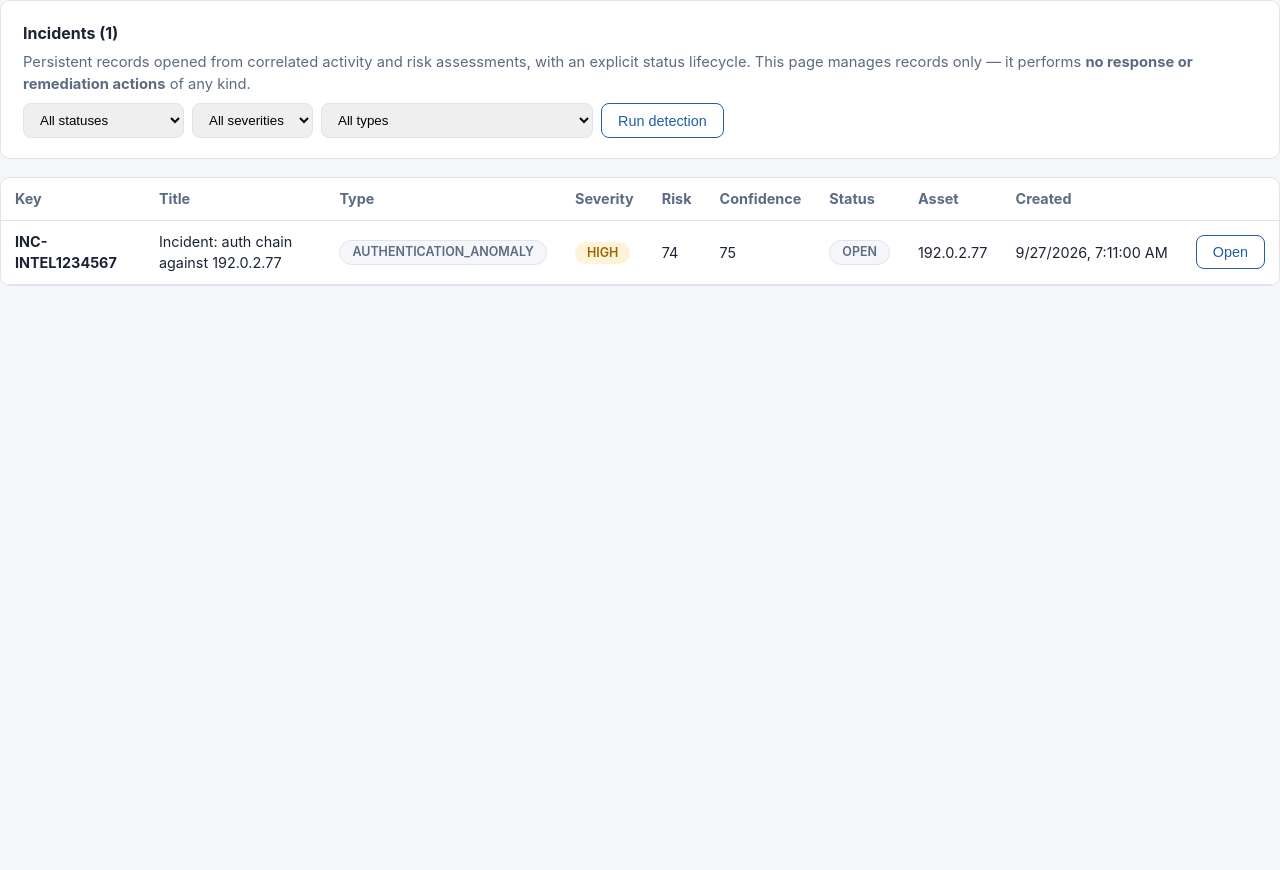
Test: Security timeline (Phase 3, Step 35) › filters by kind, reports no matches and labels server truncation
The image size is (1280, 870).
Click the button "Open" at [1230, 252], box [1196, 235, 1265, 269]
(page scrolled)
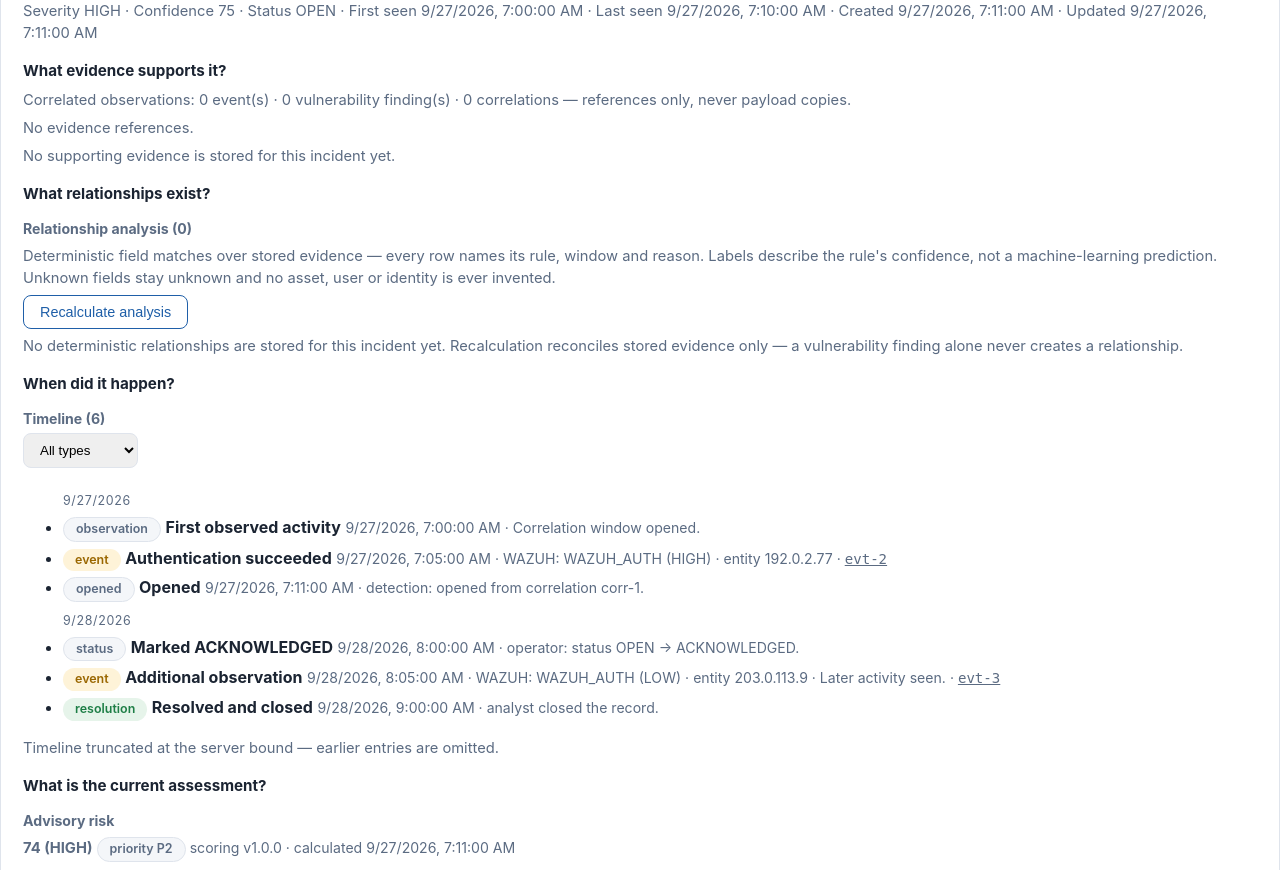
expect the heading "Relationship analysis (0)" is shown: met, box [23, 220, 192, 237]
expect the heading "Timeline (6)" is shown: met, box [23, 410, 105, 427]
expect the text "Timeline truncated at the server bound — earlier entries are omitted." is shown: met, box [23, 739, 499, 757]
Select "event" in the dropdown named "Filter timeline by type" at [80, 451], box [23, 433, 138, 468]
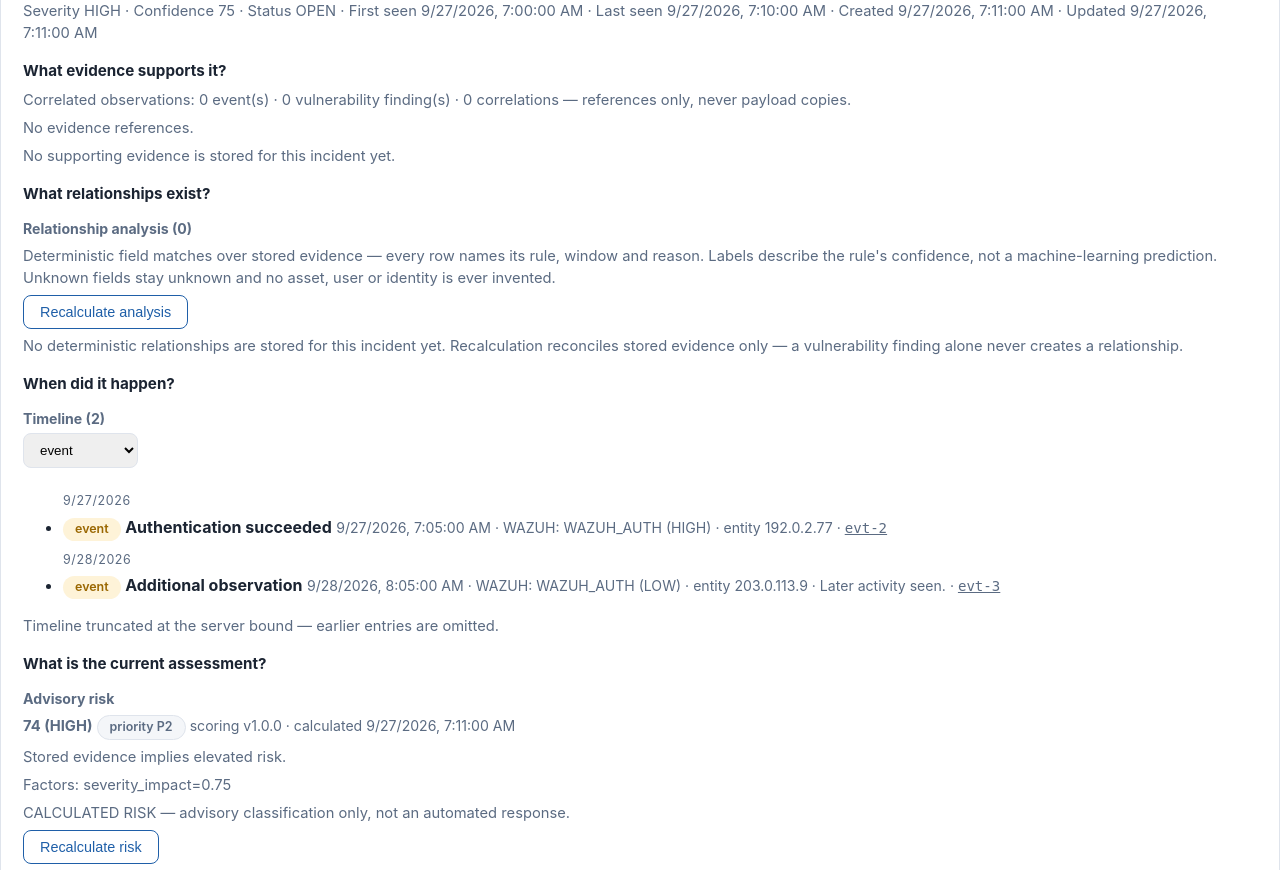
expect the text "Authentication succeeded" is shown: met, box [125, 517, 332, 537]
expect the heading "Timeline (2)" is shown: met, box [23, 410, 105, 427]
expect the text "Additional observation" is shown: met, box [125, 575, 302, 595]
Select "evidence" in the dropdown named "Filter timeline by type" at [80, 451], box [23, 433, 138, 468]
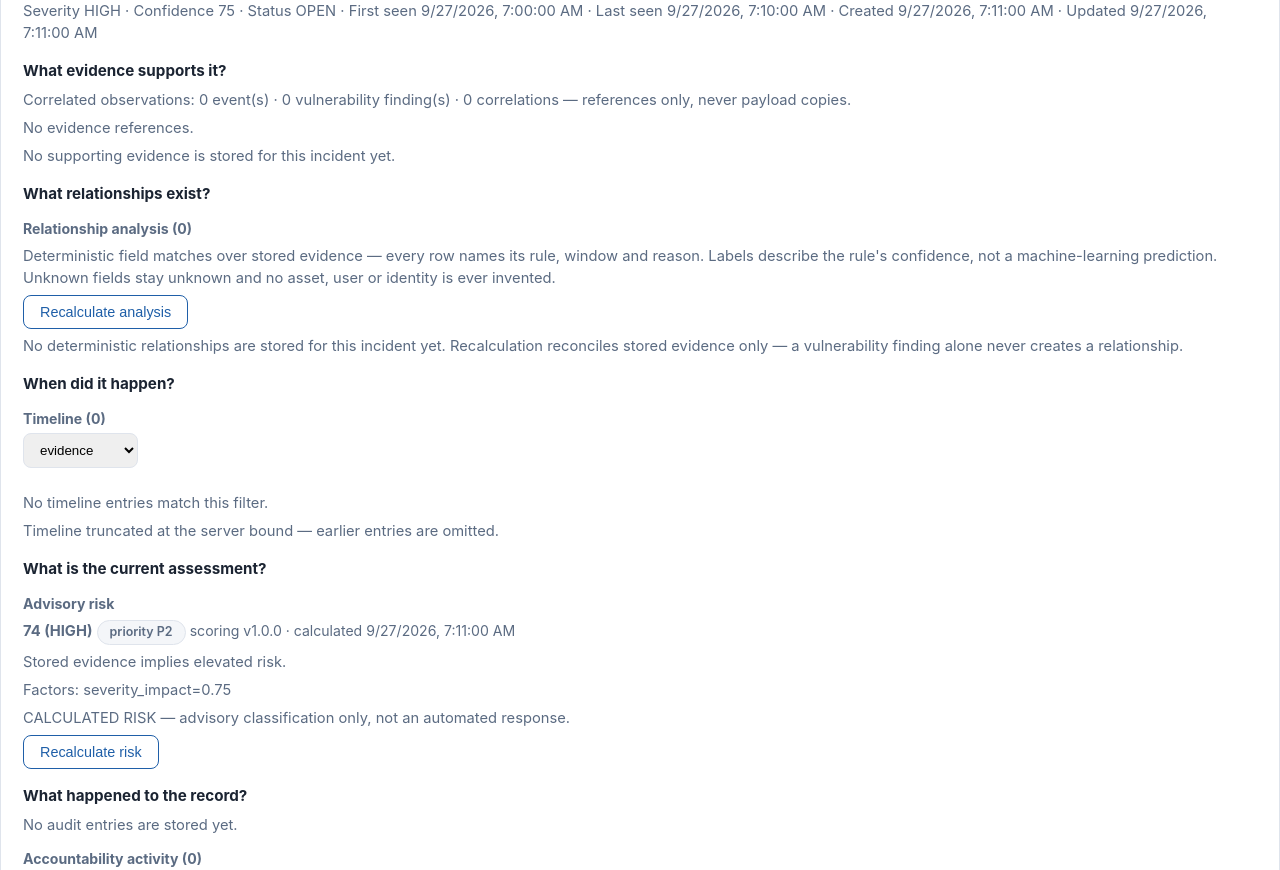
expect the heading "Timeline (0)" is shown: met, box [23, 410, 106, 427]
expect the text "No timeline entries match this filter." is shown: met, box [23, 494, 268, 512]
expect the text "Authentication succeeded" is gone: met
